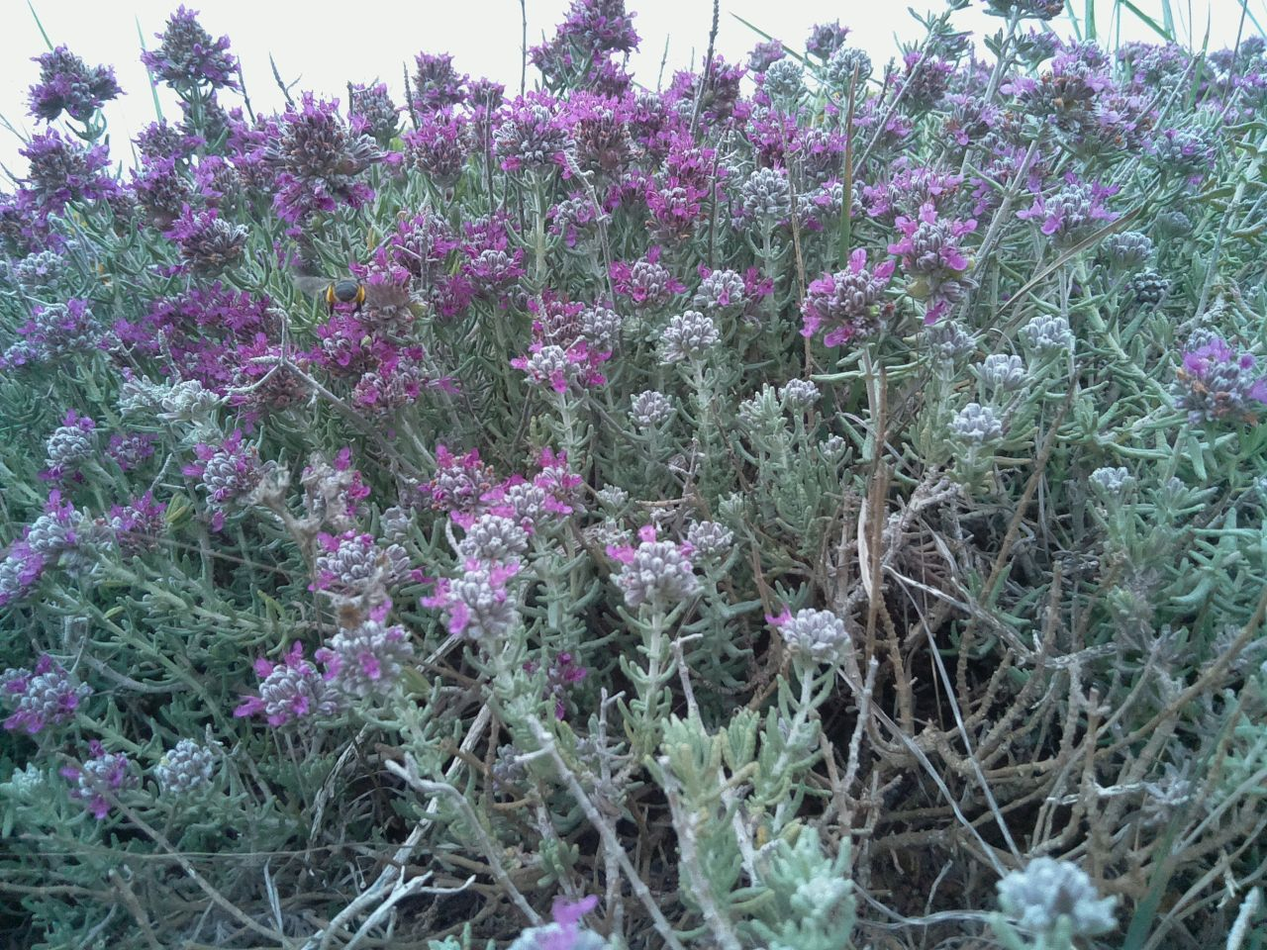bee: (279, 267, 390, 314)
